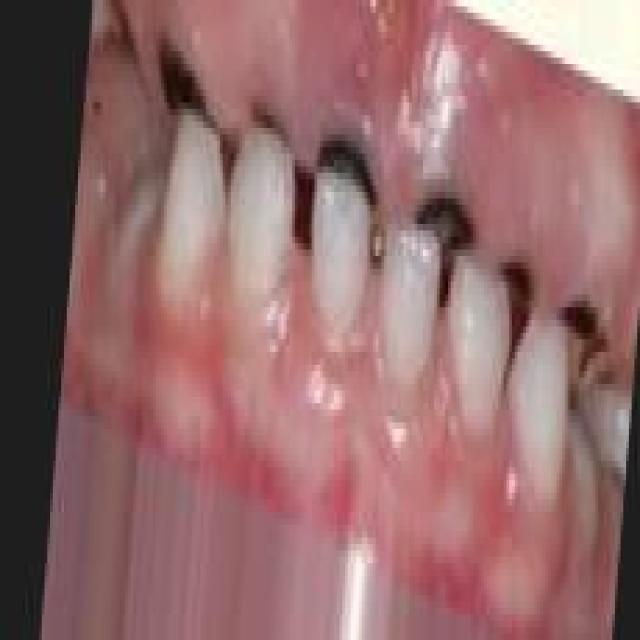caries: (406, 167, 480, 333), (554, 267, 621, 418), (152, 35, 225, 170), (306, 113, 382, 240), (490, 221, 537, 337)
